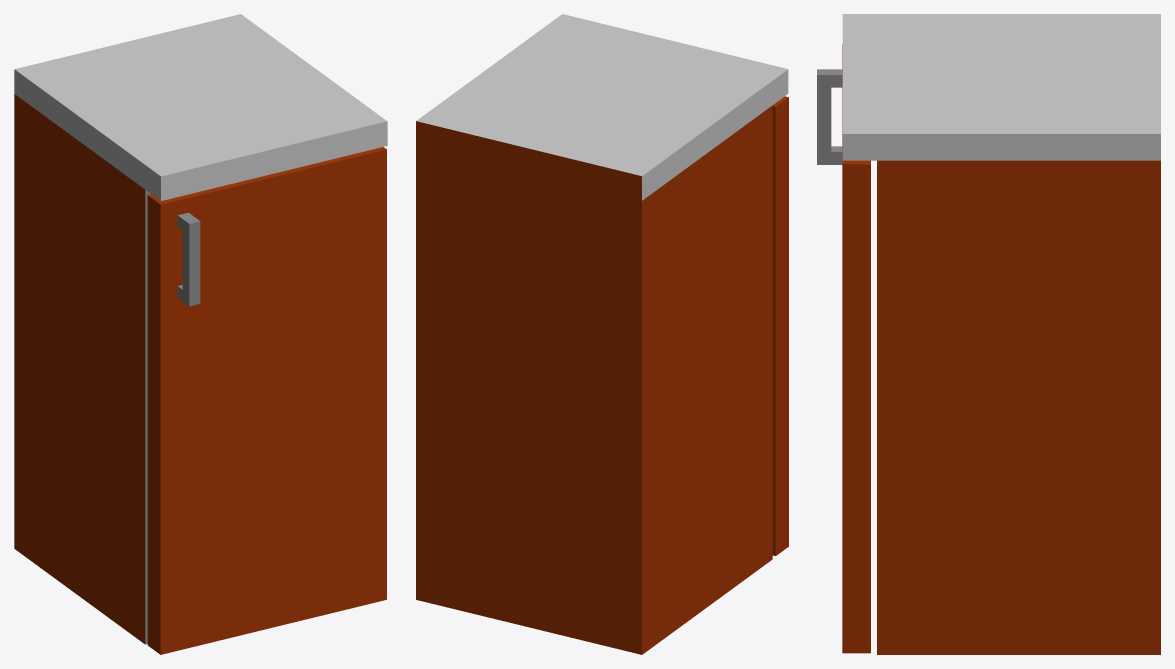
File: mobile_cucina_Scene.obj
The picture shows the model from 3 angles, left to right: view 1: azimuth 30°, elevation 25°; view 2: azimuth 150°, elevation 25°; view 3: azimuth 270°, elevation 25°; orthographic projection. The views are drawn at different scales.
Visible parts, largest first — view 1: Cube_Cube_Wood_Cherry, Cube_Cube_Material, Cube_Cube_Aluminum; view 2: Cube_Cube_Wood_Cherry, Cube_Cube_Material; view 3: Cube_Cube_Wood_Cherry, Cube_Cube_Material, Cube_Cube_Aluminum.
Boxes of the visible parts, x1=… form: Cube_Cube_Wood_Cherry: x1=14, y1=94, x2=386, y2=654; Cube_Cube_Material: x1=14, y1=14, x2=387, y2=200; Cube_Cube_Aluminum: x1=145, y1=190, x2=200, y2=644; Cube_Cube_Wood_Cherry: x1=416, y1=96, x2=788, y2=654; Cube_Cube_Material: x1=416, y1=14, x2=788, y2=200; Cube_Cube_Wood_Cherry: x1=842, y1=44, x2=1160, y2=654; Cube_Cube_Material: x1=842, y1=14, x2=1160, y2=160; Cube_Cube_Aluminum: x1=817, y1=69, x2=842, y2=164.
Size of the model in its own units: 2 by 4.05 by 2.42.
